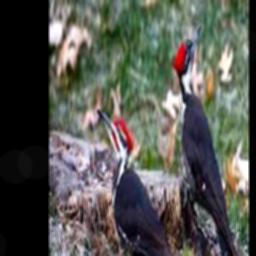Woodpecker: (172, 27, 241, 256), (98, 108, 180, 256)
